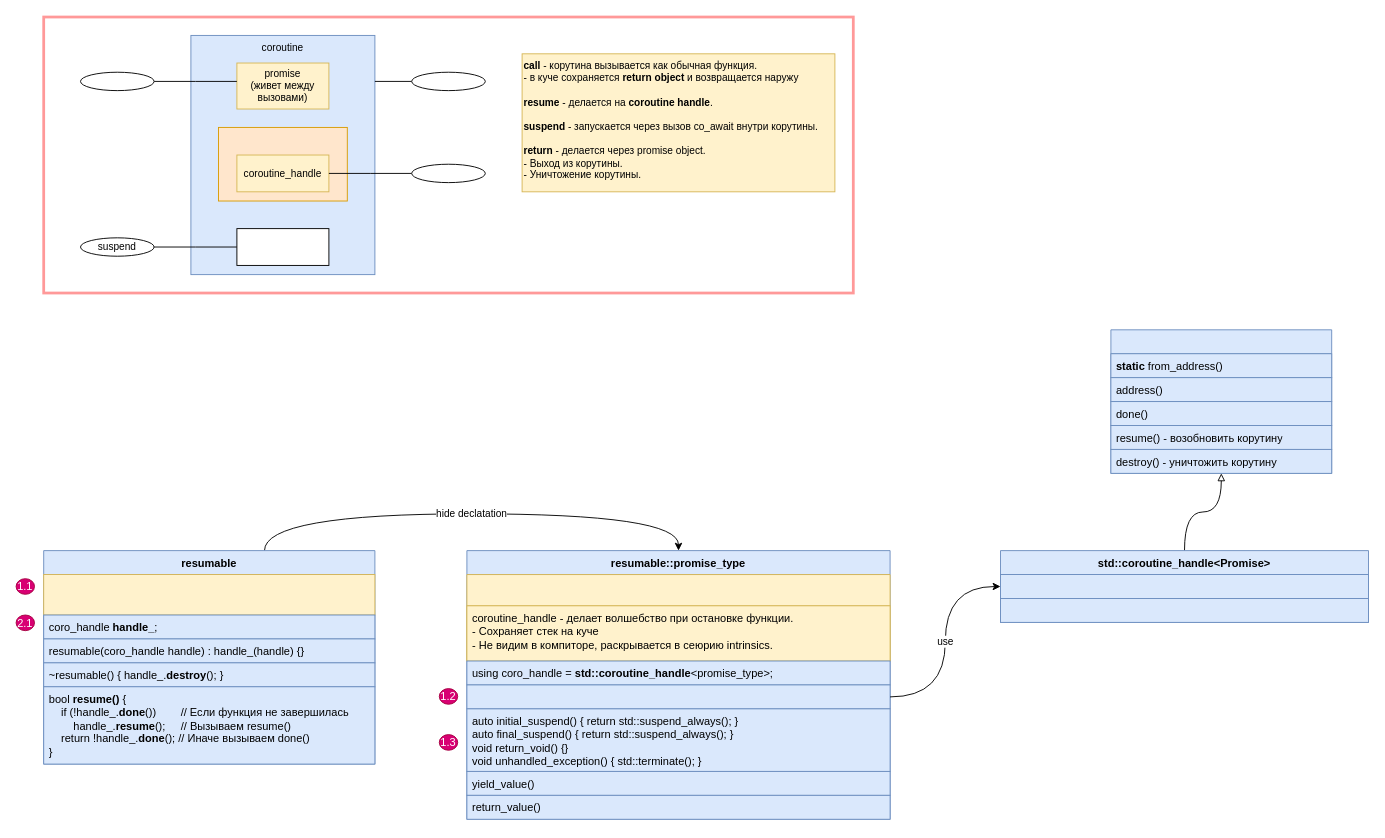
Some shapes in this 1385 by 838 pixel diagram are drawn without their labels. The box of each missing label's shape, as (x1, y1, x2, y2) in pixels:
call: (411, 71, 485, 91)
co_await: (236, 228, 329, 265)
get_return_object(): (466, 684, 890, 709)
promise(): (1000, 598, 1368, 622)
resume: (411, 163, 485, 183)
return: (80, 71, 154, 91)
return object: (218, 126, 347, 201)
return object - ему нужно уметь получать std::coroutine_handle: (43, 574, 375, 615)
static from_promise() - получить конретный coroutine_handle: (1000, 574, 1368, 598)
std::coroutine_handle<T> - делает волшебство при остановке функции.: (466, 574, 890, 661)
std::coroutine_handle<void>: (1110, 329, 1332, 473)
